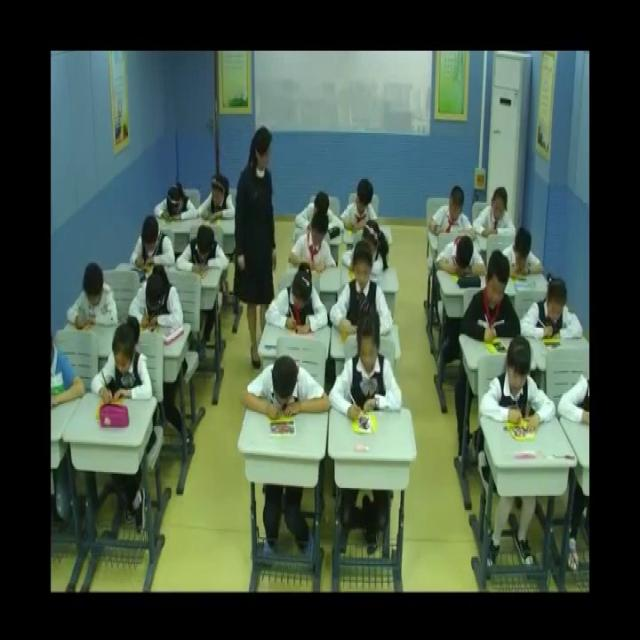focused: (329, 306, 405, 425), (479, 339, 554, 438), (241, 355, 329, 423), (330, 246, 395, 335), (463, 247, 522, 342), (92, 315, 154, 405), (266, 263, 330, 336), (523, 275, 585, 348), (130, 266, 184, 337), (68, 264, 120, 331), (287, 210, 337, 276), (434, 232, 489, 283), (342, 222, 391, 275), (129, 216, 174, 272), (428, 185, 474, 238), (474, 186, 516, 244), (177, 229, 227, 277), (342, 177, 383, 234), (506, 223, 542, 286), (296, 192, 342, 238), (200, 176, 238, 227), (155, 182, 197, 224)
